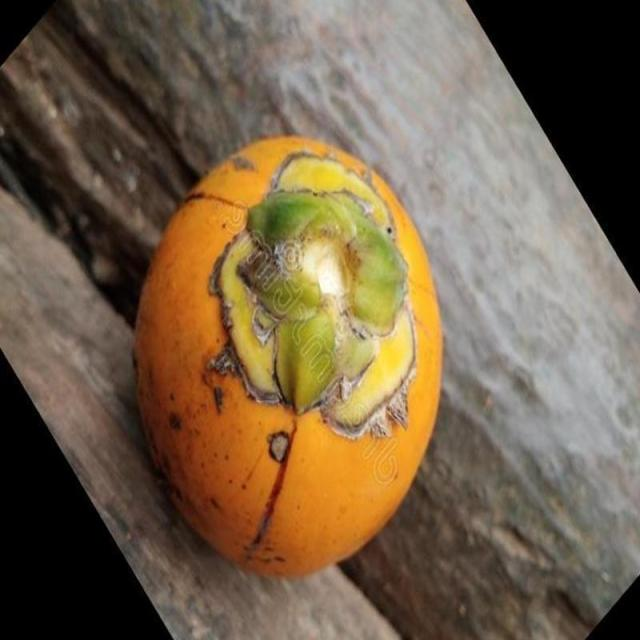good: (134, 137, 443, 578)
